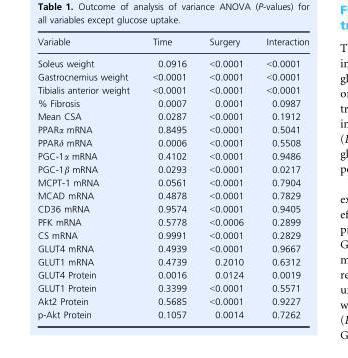table: (36, 36, 308, 319)
table column: (36, 36, 140, 319), (140, 36, 197, 319), (197, 36, 254, 319), (254, 36, 308, 319)
table column header: (36, 36, 308, 52)
table row: (36, 52, 308, 69), (36, 36, 308, 52), (36, 69, 308, 83), (36, 122, 308, 136), (36, 201, 308, 215), (36, 241, 308, 255), (36, 294, 308, 308), (36, 83, 308, 96), (36, 96, 308, 109), (36, 109, 308, 122), (36, 136, 308, 149), (36, 149, 308, 162), (36, 162, 308, 175), (36, 175, 308, 188), (36, 188, 308, 201), (36, 215, 308, 228), (36, 228, 308, 241), (36, 255, 308, 268), (36, 268, 308, 281), (36, 281, 308, 294), (36, 308, 308, 319)
